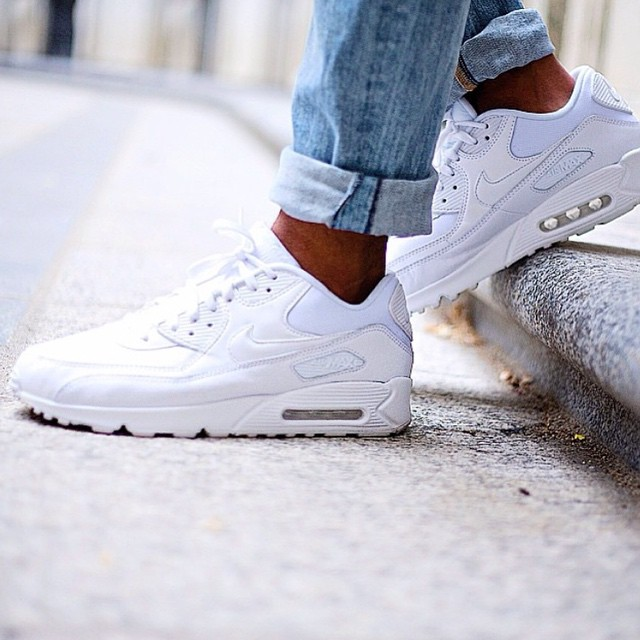sneaker: (1, 194, 441, 464), (336, 29, 640, 334)
